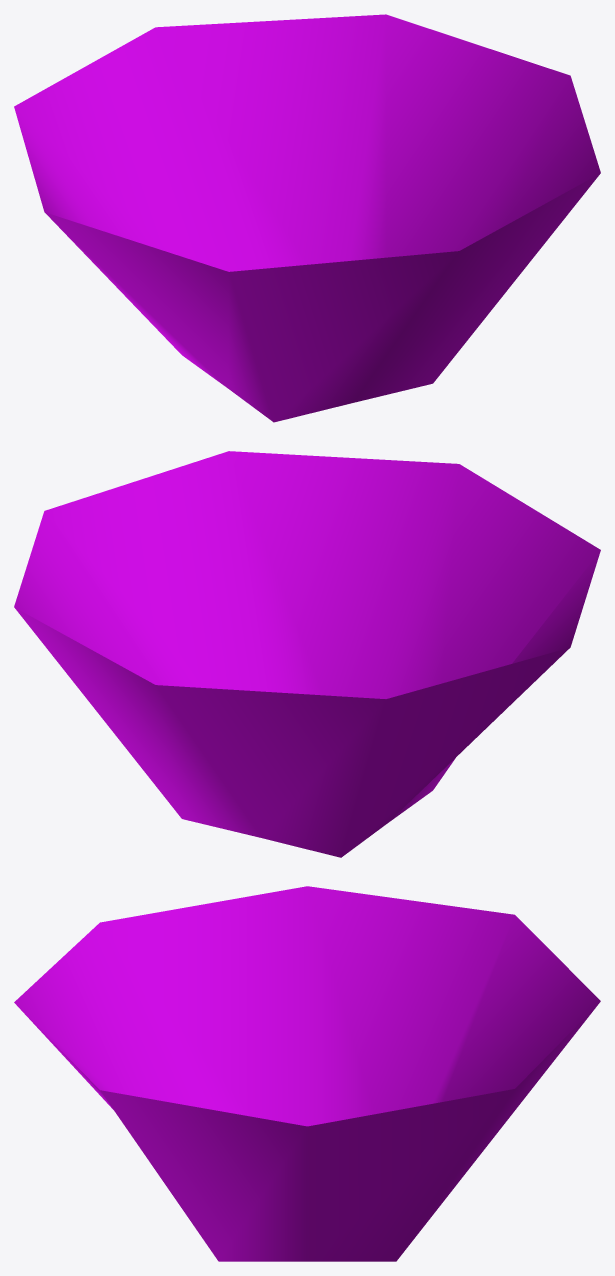
File: V_Flower_Petal_03.fbx
The picture shows the model from 3 angles, top to bottom: view 1: azimuth 30°, elevation 25°; view 2: azimuth 150°, elevation 25°; view 3: azimuth 270°, elevation 25°; orthographic projection. The views are drawn at different scales.
Visible parts, largest first — view 1: V_Flower_Petal_03; view 2: V_Flower_Petal_03; view 3: V_Flower_Petal_03.
Part boxes in pixels (left/top/right/bottom): V_Flower_Petal_03: left=14, top=14, right=600, bottom=422; V_Flower_Petal_03: left=14, top=451, right=600, bottom=857; V_Flower_Petal_03: left=14, top=886, right=600, bottom=1261.
Bounding box in the file's own units: 15.66 × 6.57 × 15.66.
